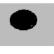correct: (8, 8, 38, 32)
